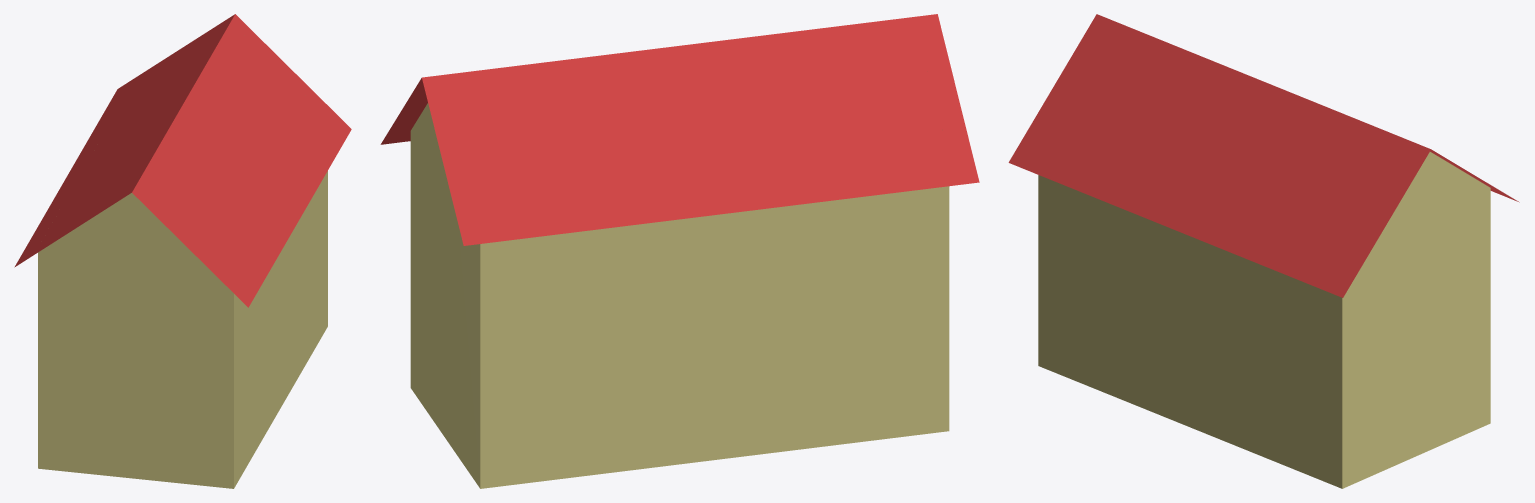
The picture shows the model from 3 angles, left to right: view 1: azimuth 30°, elevation 25°; view 2: azimuth 150°, elevation 25°; view 3: azimuth 270°, elevation 25°; orthographic projection. The views are drawn at different scales.
Bounding box in the file's own units: 12 × 12.16 × 8.21.
